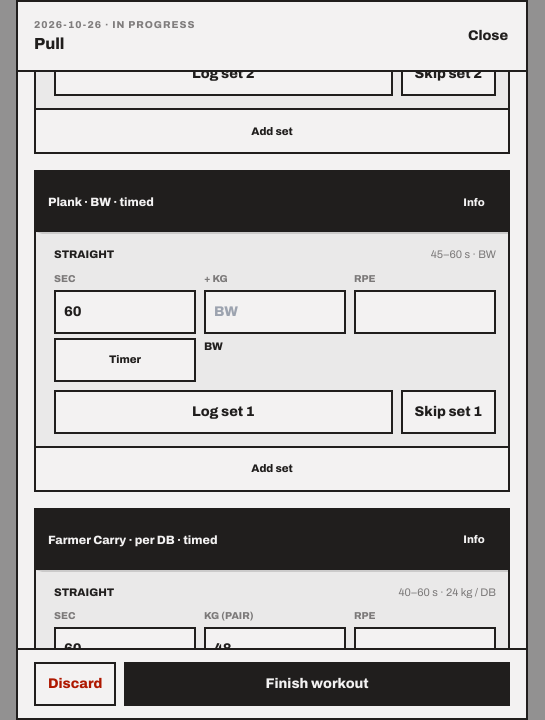
Scenario: timed sets › the light timer fills the seconds when stopped
(page scrolled)
Step 1. Click the button with aria-label "Start timer for Plank set 1" → (125, 360), box [54,338,196,382]
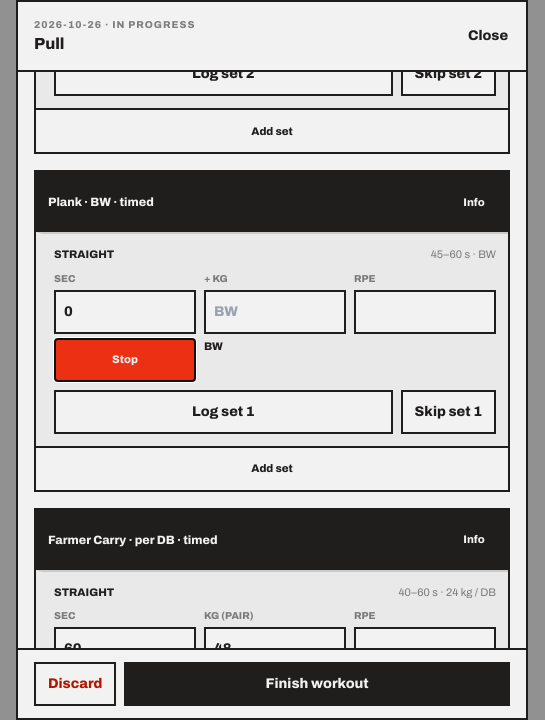
Step 2. Click the button with aria-label "Stop timer for Plank set 1" → (125, 360), box [54,338,196,382]
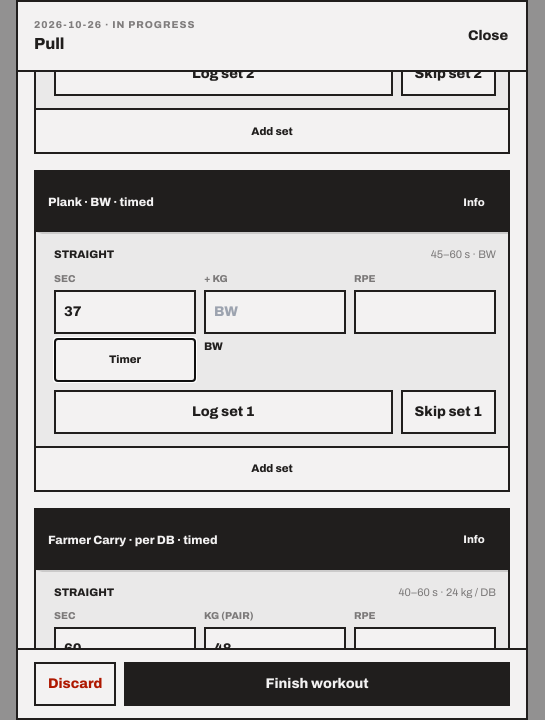
expect the field named "Plank set 1 seconds" holds "37": met, box [54,290,196,334]
